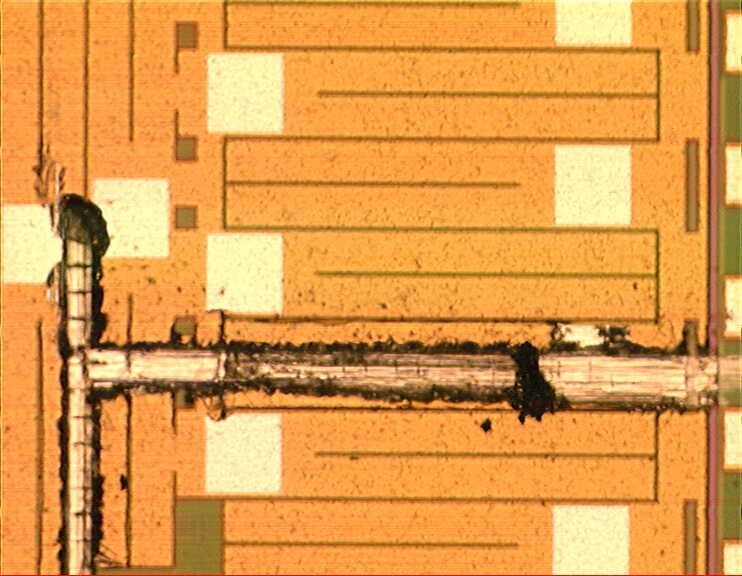SCRATCH: (34, 144, 742, 575)
